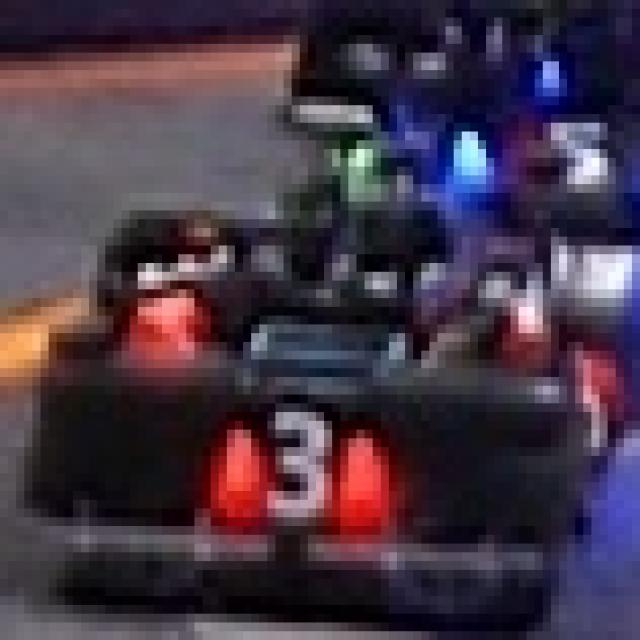R3: (202, 386, 397, 552), (113, 184, 243, 342), (530, 311, 620, 452)
